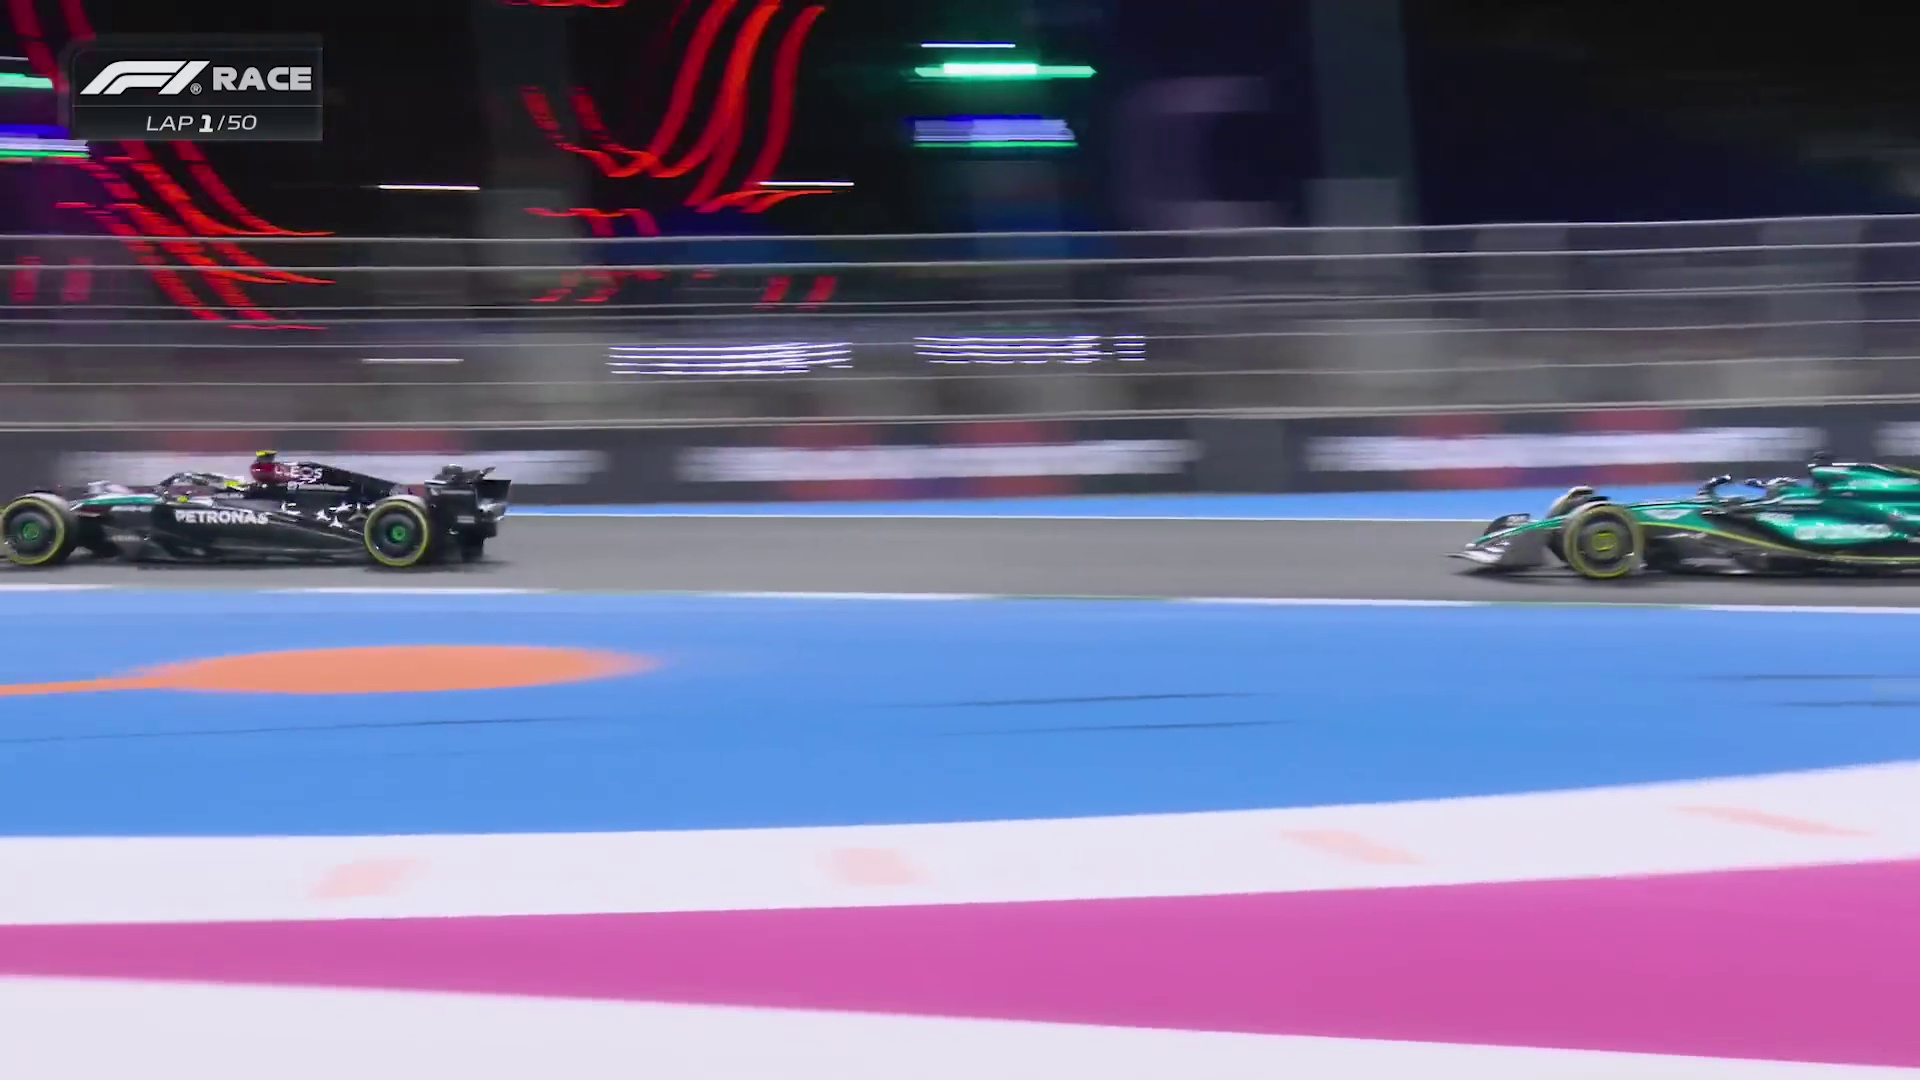AstonMartin: (1465, 470, 1919, 584)
Mercedes: (4, 464, 504, 567)
